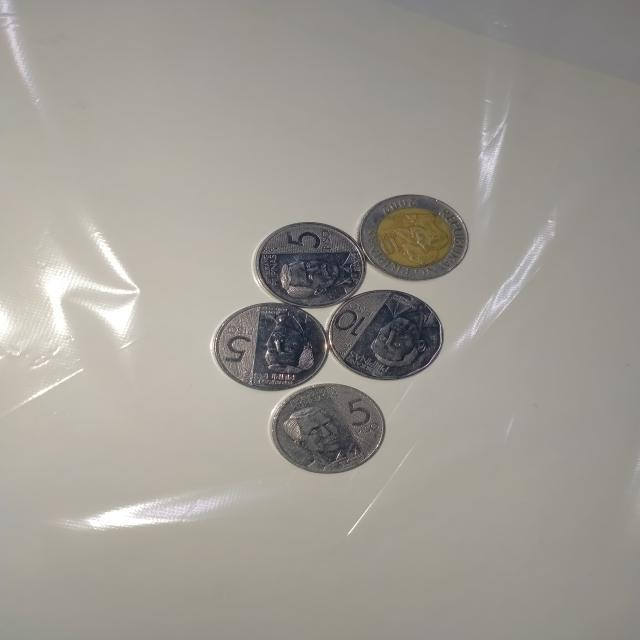10_New_Front: (330, 294, 431, 372)
10_Old_Front: (369, 199, 462, 275)
5_New_Front: (218, 308, 316, 379), (270, 222, 357, 298)
